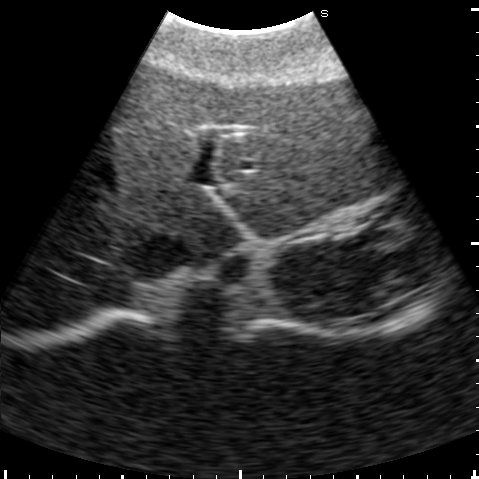IVC: (123, 234, 194, 279)
S1: (176, 189, 242, 258)
S2: (212, 162, 404, 238)
S3: (213, 77, 395, 201)
